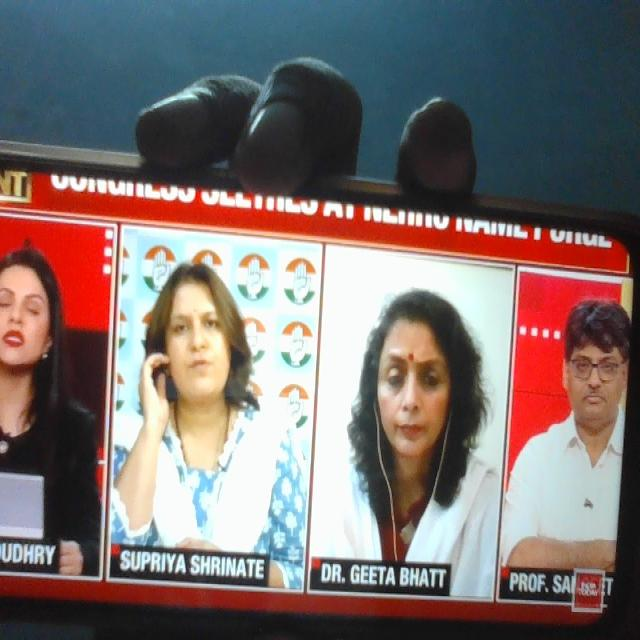fake: (359, 278, 471, 490)
